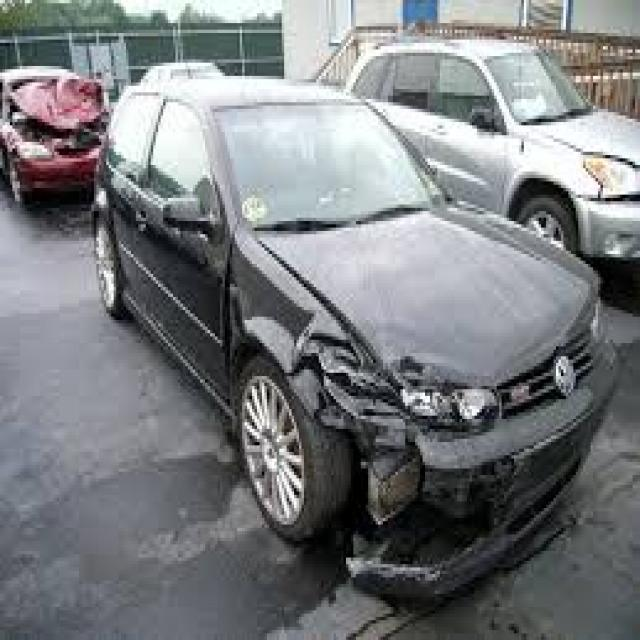moderate: (253, 257, 534, 591)
